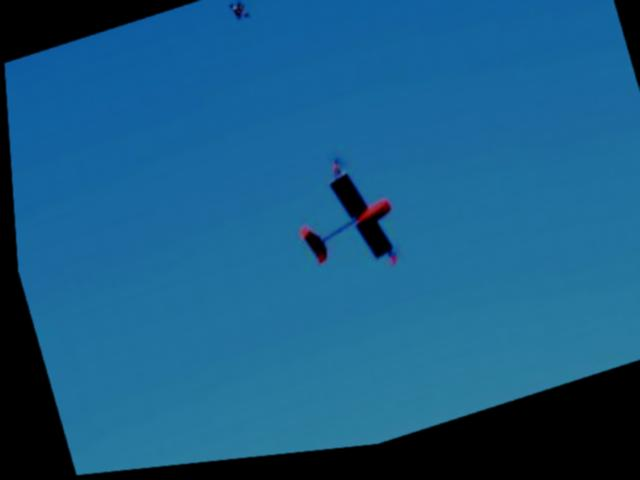uav: (270, 146, 413, 307)
